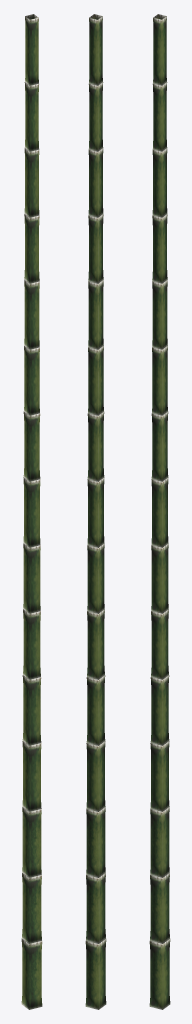
File: bamboo_15.fbx
The picture shows the model from 3 angles, left to right: view 1: azimuth 30°, elevation 25°; view 2: azimuth 150°, elevation 25°; view 3: azimuth 330°, elevation 25°; orthographic projection.
Visible parts, largest first — view 1: bamboo_15; view 2: bamboo_15; view 3: bamboo_15.
Part boxes in pixels (box(x1,y1,x2,y2)): bamboo_15: box(21, 14, 42, 1009); bamboo_15: box(85, 14, 106, 1009); bamboo_15: box(149, 14, 170, 1009).
Bounding box in the file's own units: 41.83 × 3000 × 41.83.
